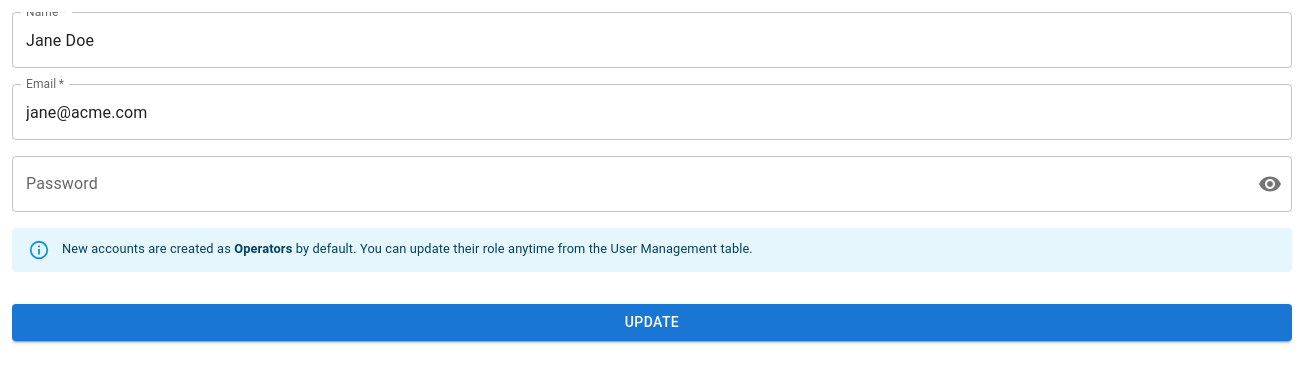
UpdateUserForm › validates a too-short password if one is entered
The width and height of the screenshot is (1304, 383).
In the password field labelled "Password": (627, 184) [12,156,1242,212], type "123"
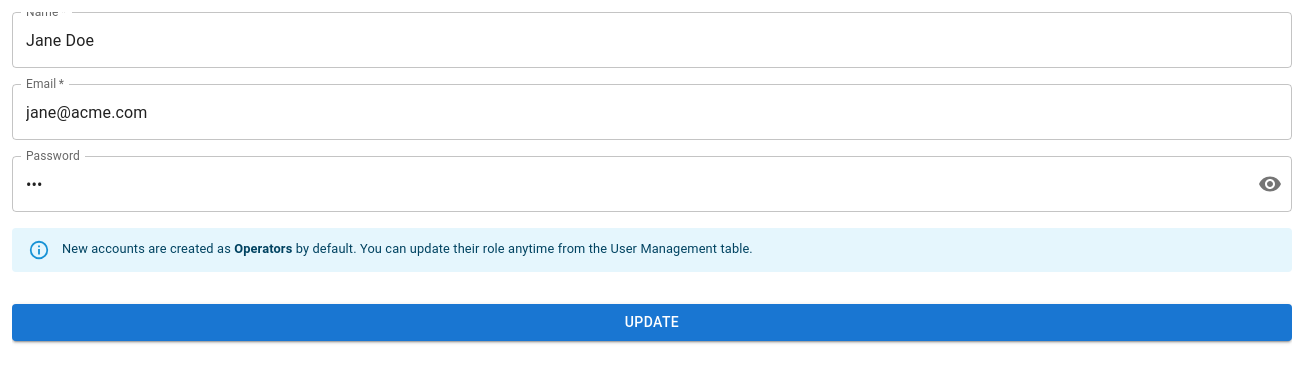
Submit the form
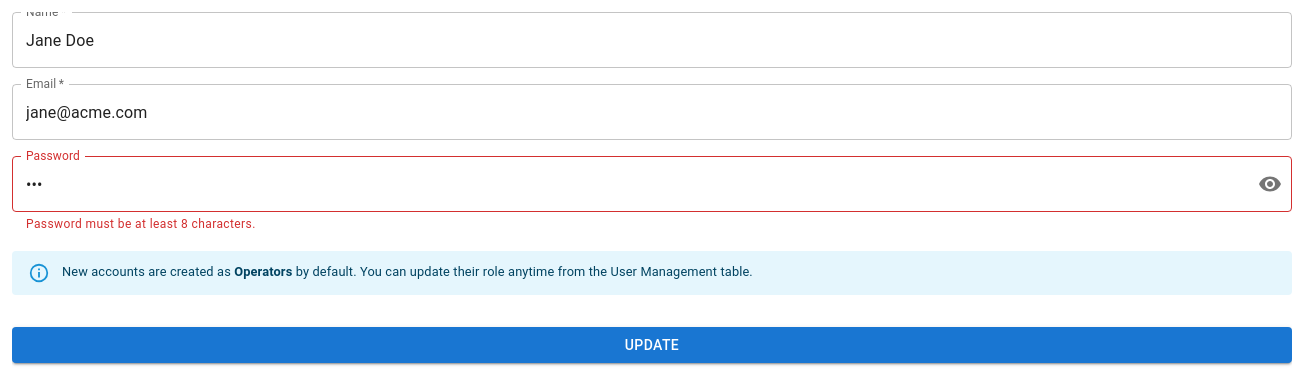
Expected: the text "Password must be at least 8 characters." is shown, [26,217,256,231]
